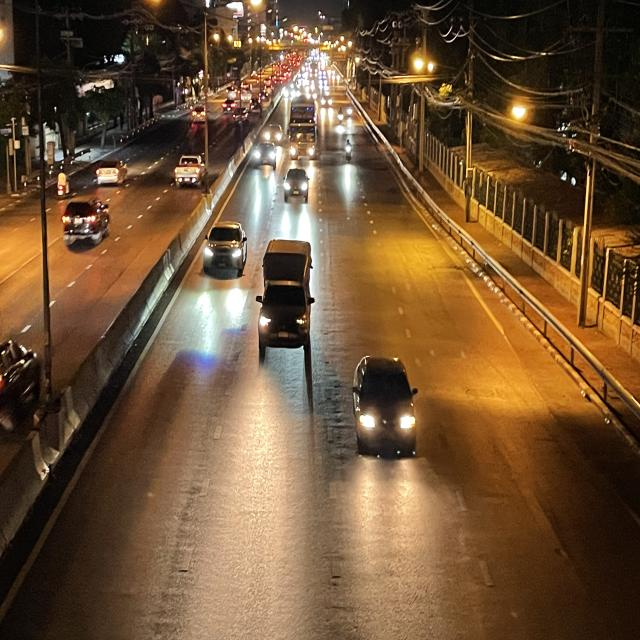car: (349, 352, 419, 460), (202, 220, 248, 276), (283, 168, 310, 203)
truck: (256, 237, 316, 356)
